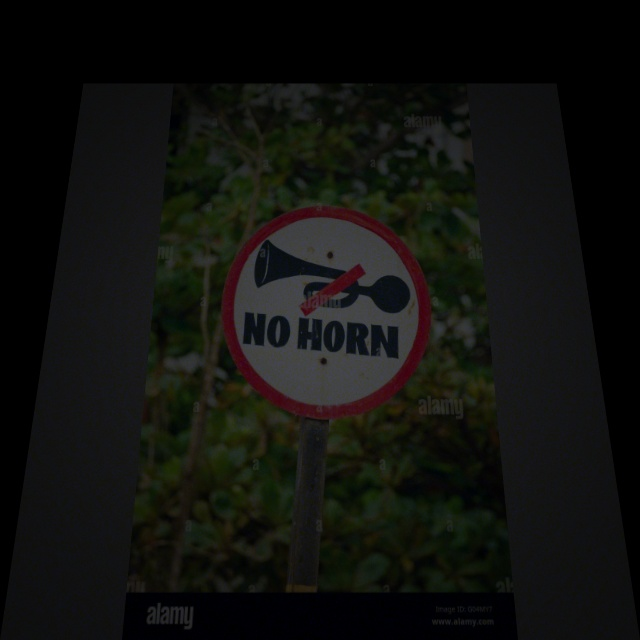Horn_Prohibited: (221, 202, 435, 422)
